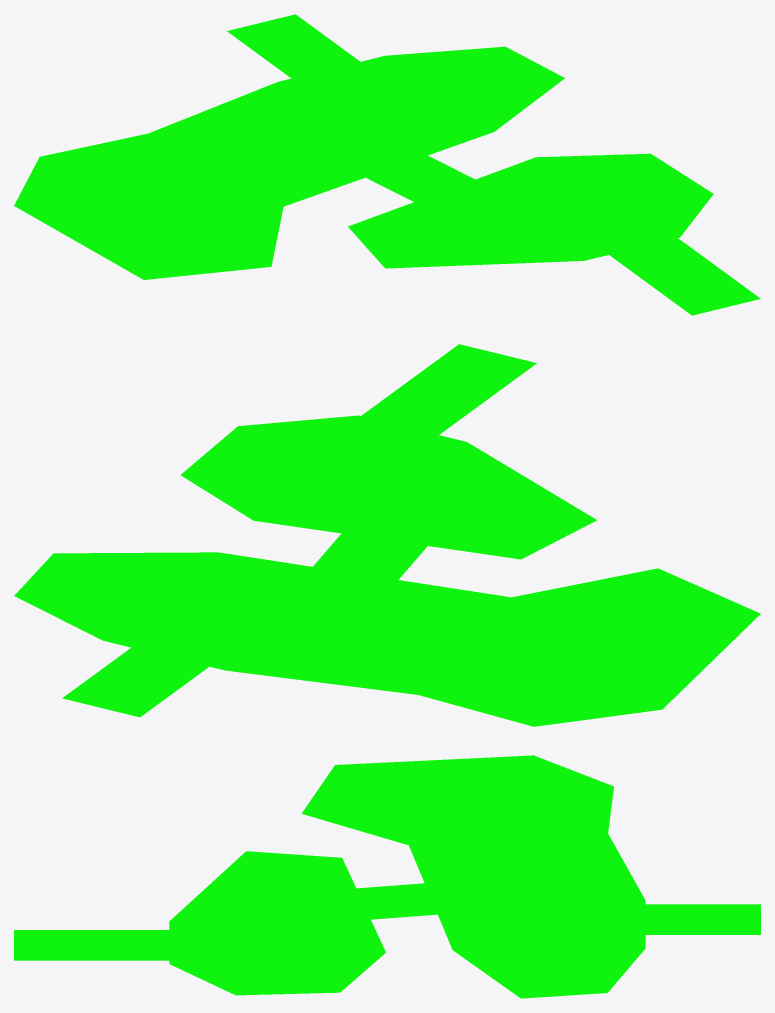
The model's file is s03a_ib2-floor.glb.
3 views of the same model, one above another, from view 1: azimuth 30°, elevation 25°; view 2: azimuth 150°, elevation 25°; view 3: azimuth 270°, elevation 25° (orthographic). The views are drawn at different scales.
Visible parts, largest first — view 1: collision_floor-colonly; view 2: collision_floor-colonly; view 3: collision_floor-colonly.
Boxes of the visible parts, x1=… form: collision_floor-colonly: x1=14, y1=14, x2=760, y2=315; collision_floor-colonly: x1=14, y1=344, x2=760, y2=726; collision_floor-colonly: x1=14, y1=755, x2=760, y2=998.
Size of the model in its own units: 47.38 by 0.3164 by 61.5.
